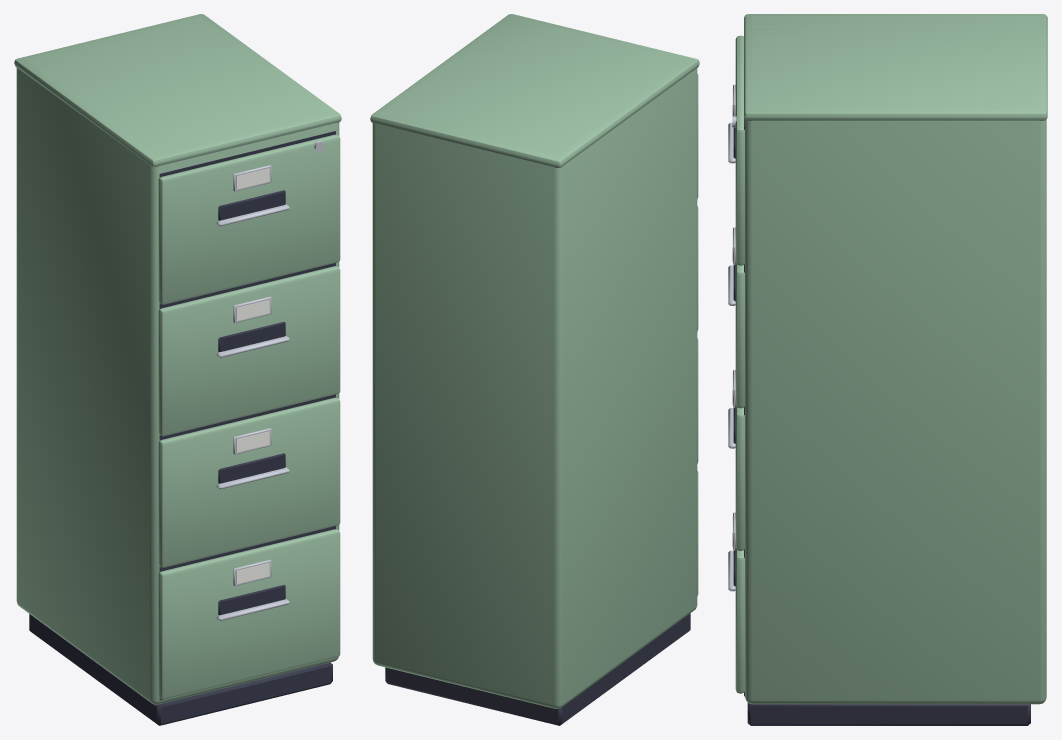
Rendered from filing_cabinet.glb.
3 renders of one model, left to right at view 1: azimuth 30°, elevation 25°; view 2: azimuth 150°, elevation 25°; view 3: azimuth 270°, elevation 25°, orthographic. The views are drawn at different scales.
Visible parts, largest first — view 1: cabinet, charcoal, chrome, paper; view 2: cabinet, charcoal; view 3: cabinet, charcoal, chrome.
Boxes of the visible parts, x1,y1,x2,y2 form: cabinet: (14, 14, 341, 704); charcoal: (29, 131, 335, 725); chrome: (216, 140, 324, 620); paper: (236, 168, 269, 583); cabinet: (370, 14, 699, 708); charcoal: (385, 613, 690, 725); cabinet: (735, 14, 1047, 704); charcoal: (733, 117, 1030, 725); chrome: (728, 84, 736, 591).
Bounding box in the file's own units: 0.454 × 1.3 × 0.609.
